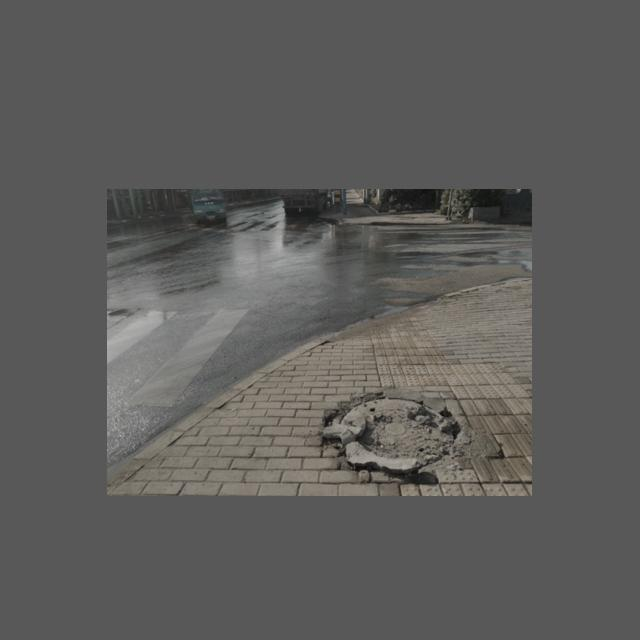circle: (321, 383, 476, 477)
